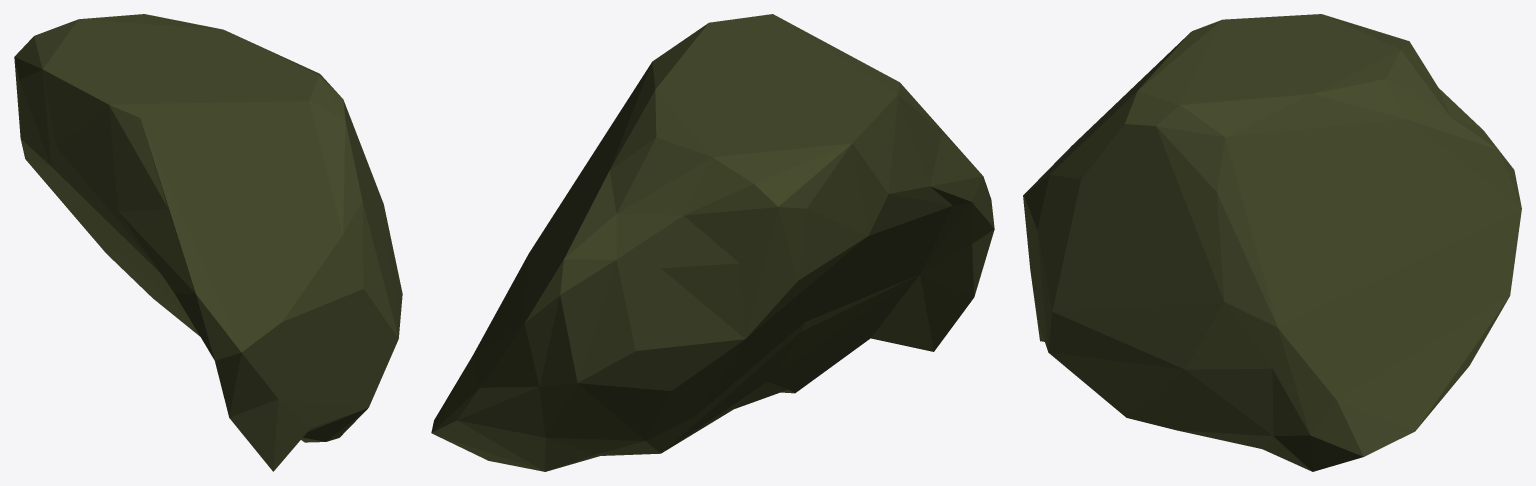
File: SM_small_rock_24.fbx
3 renders of one model, left to right at view 1: azimuth 30°, elevation 25°; view 2: azimuth 150°, elevation 25°; view 3: azimuth 270°, elevation 25°, orthographic. The views are drawn at different scales.
Visible parts, largest first — view 1: small_rock_24; view 2: small_rock_24; view 3: small_rock_24.
Part boxes in pixels (x1,y1,x2,y2): small_rock_24: (14,14,402,471); small_rock_24: (431,14,994,471); small_rock_24: (1023,14,1521,471).
Size of the model in its own units: 11.34 by 10.49 by 14.97.
